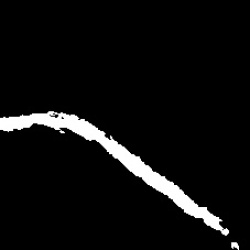crack: (3, 112, 228, 237)
pinhole: (231, 243, 239, 248)
